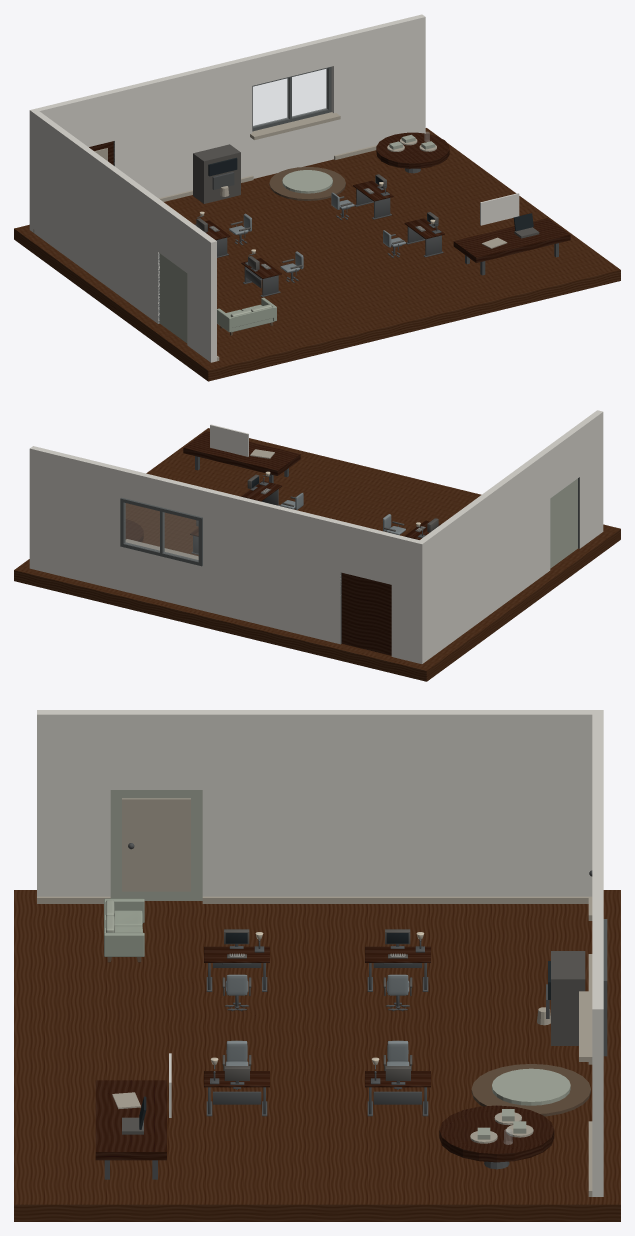
File: vq1c-officeworld-full-pbr.glb
The picture shows the model from 3 angles, top to bottom: view 1: azimuth 30°, elevation 25°; view 2: azimuth 150°, elevation 25°; view 3: azimuth 270°, elevation 25°; orthographic projection. The views are drawn at different scales.
Visible parts, largest first — view 1: FLOOR, LEFT_WALL_FRONT, BACK_WALL_CENTER, BACK_WALL_RIGHT, LEFT_WALL_BACK, BACK_WALL_WINDOW_BOTTOM, WINDOW_GLASS, BACK_WALL_WINDOW_TOP, MEETING_TABLE_TOP, BACK_WALL_RESTROOM_LINTEL, ENTRANCE_DOOR_PANEL, DINING_TABLE_TOP (+7 smaller); view 2: FLOOR, BACK_WALL_CENTER, LEFT_WALL_FRONT, BACK_WALL_RIGHT, BACK_WALL_LEFT, BACK_WALL_WINDOW_BOTTOM, RESTROOM_DOOR_PANEL, LEFT_WALL_BACK, WINDOW_GLASS, BACK_WALL_RESTROOM_LINTEL, BACK_WALL_WINDOW_TOP, MEETING_TABLE_TOP (+6 smaller); view 3: FLOOR, LEFT_WALL_FRONT, LEFT_WALL_BACK, LEFT_WALL_ENTRANCE_LINTEL, ENTRANCE_DOOR_INSET, MEETING_TABLE_TOP, DINING_TABLE_TOP, ENTRANCE_DOOR_PANEL, BASEBOARD_LEFT_FRONT, BACK_WALL_RIGHT, COFFEE_MACHINE_BODY, CAT_HOME_BASE (+9 smaller).
Part boxes in pixels (box(x1,y1,x2,y2)): FLOOR: box(14, 128, 620, 381); LEFT_WALL_FRONT: box(31, 110, 163, 323); BACK_WALL_CENTER: box(111, 56, 252, 198); BACK_WALL_RIGHT: box(331, 14, 425, 155); LEFT_WALL_BACK: box(187, 224, 216, 362); BACK_WALL_WINDOW_BOTTOM: box(252, 121, 333, 178); WINDOW_GLASS: box(253, 69, 326, 126); BACK_WALL_WINDOW_TOP: box(249, 37, 333, 85); MEETING_TABLE_TOP: box(453, 218, 570, 262); BACK_WALL_RESTROOM_LINTEL: box(61, 90, 114, 146); ENTRANCE_DOOR_PANEL: box(160, 253, 187, 343); DINING_TABLE_TOP: box(376, 132, 449, 168); FLOOR: box(14, 428, 620, 681); BACK_WALL_CENTER: box(203, 488, 343, 644); LEFT_WALL_FRONT: box(420, 449, 550, 662); BACK_WALL_RIGHT: box(29, 446, 124, 590); BACK_WALL_LEFT: box(391, 534, 425, 663); BACK_WALL_WINDOW_BOTTOM: box(121, 547, 202, 610); RESTROOM_DOOR_PANEL: box(341, 573, 391, 655); LEFT_WALL_BACK: box(574, 410, 603, 548); WINDOW_GLASS: box(124, 503, 198, 560); BACK_WALL_RESTROOM_LINTEL: box(340, 522, 394, 584); BACK_WALL_WINDOW_TOP: box(121, 468, 205, 517); MEETING_TABLE_TOP: box(183, 431, 300, 475); FLOOR: box(14, 890, 620, 1221); LEFT_WALL_FRONT: box(202, 710, 597, 896); LEFT_WALL_BACK: box(37, 710, 110, 896); LEFT_WALL_ENTRANCE_LINTEL: box(110, 710, 202, 789); ENTRANCE_DOOR_INSET: box(122, 798, 190, 891); MEETING_TABLE_TOP: box(95, 1080, 166, 1160); DINING_TABLE_TOP: box(439, 1105, 554, 1162); ENTRANCE_DOOR_PANEL: box(110, 790, 202, 900); BASEBOARD_LEFT_FRONT: box(202, 896, 591, 903); BACK_WALL_RIGHT: box(592, 939, 603, 1196); COFFEE_MACHINE_BODY: box(551, 951, 585, 1045); CAT_HOME_BASE: box(471, 1064, 590, 1116).
Size of the model in its own units: 16.2 by 4.91 by 13.2.
Materials: 16 (2 with a texture image).
